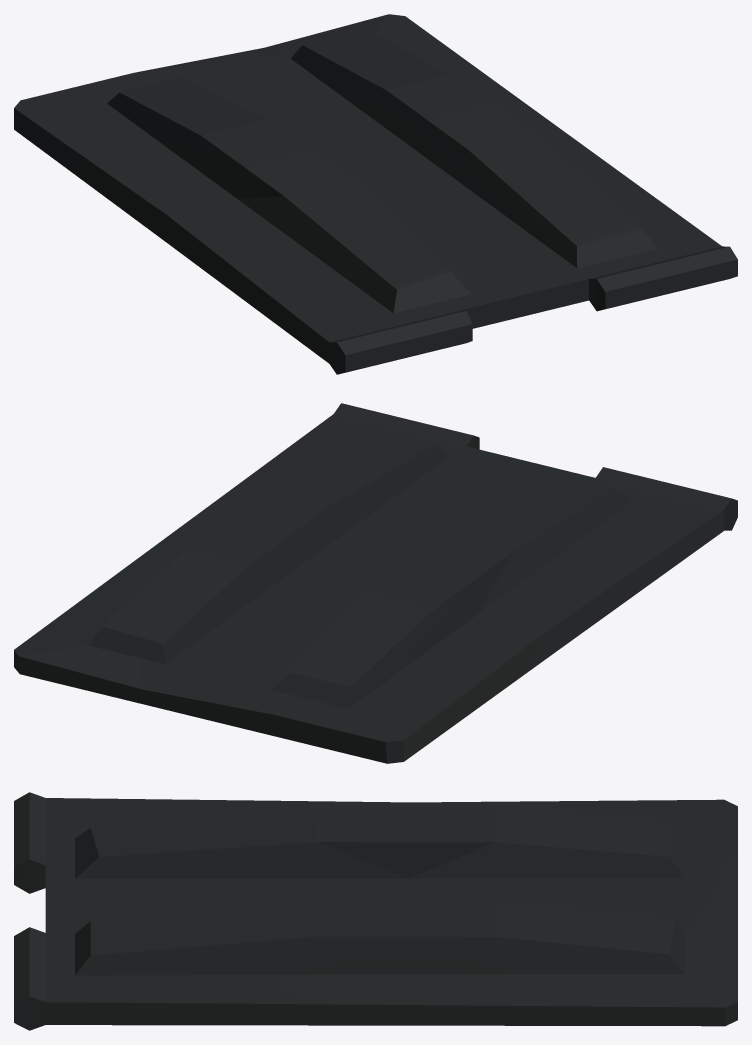
The model's file is SM_Prop_Dumptser_03_Lid_02.obj.
The picture shows the model from 3 angles, top to bottom: view 1: azimuth 30°, elevation 25°; view 2: azimuth 150°, elevation 25°; view 3: azimuth 270°, elevation 25°; orthographic projection. The views are drawn at different scales.
Parts seen in each view (by area): view 1: SM_Prop_Dumptser_03_Lid_02_0; view 2: SM_Prop_Dumptser_03_Lid_02_0; view 3: SM_Prop_Dumptser_03_Lid_02_0.
Boxes of the visible parts, x1=… form: SM_Prop_Dumptser_03_Lid_02_0: x1=14, y1=14, x2=737, y2=374; SM_Prop_Dumptser_03_Lid_02_0: x1=14, y1=403, x2=737, y2=763; SM_Prop_Dumptser_03_Lid_02_0: x1=14, y1=792, x2=737, y2=1030.
Size of the model in its own units: 0.888 by 0.1265 by 1.32.
1 material, 1 textured.
